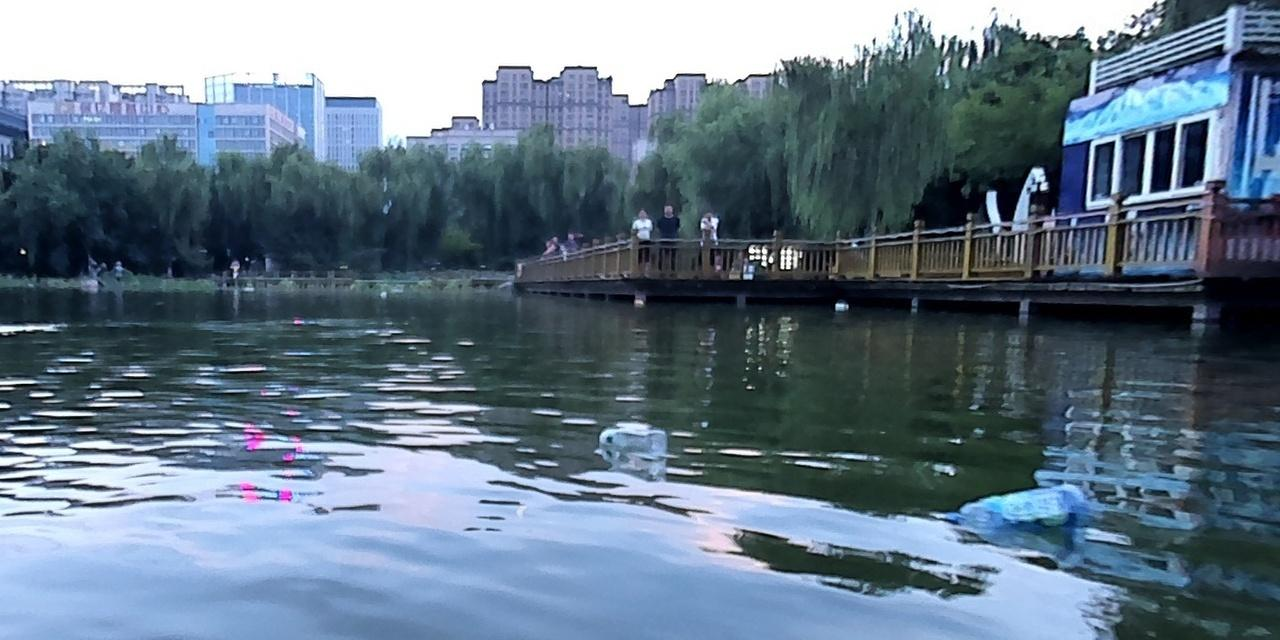bottle: (943, 482, 1090, 533), (597, 422, 666, 459), (832, 302, 848, 311)
